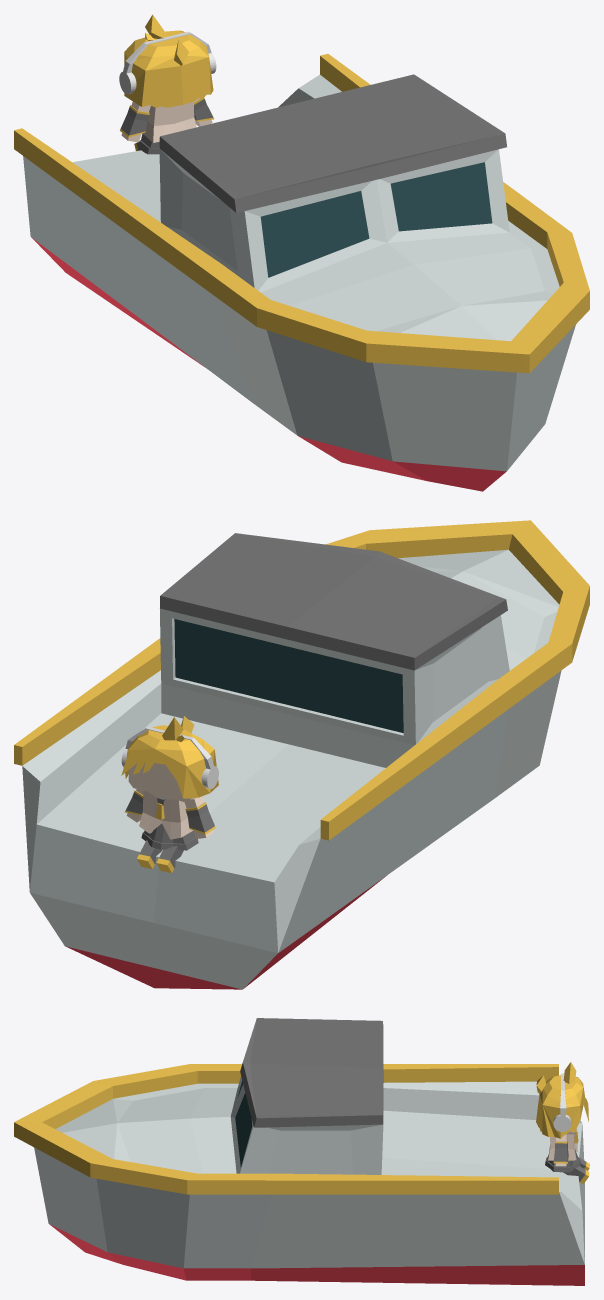
Rendered from littleshipRen.glb.
3 renders of one model, top to bottom at view 1: azimuth 30°, elevation 25°; view 2: azimuth 150°, elevation 25°; view 3: azimuth 270°, elevation 25°, orthographic. The views are drawn at different scales.
Visible parts, largest first — view 1: Cube, 球体, 立方体.004, Cylinder, 立方体.015; view 2: Cube, 球体, 立方体.004, 立方体.003, Cylinder, 立方体.015; view 3: Cube, 球体, Cylinder, 立方体.004.
Boxes of the visible parts, <box> form: Cube: <box>14,53,589,491</box>; 球体: <box>124,30,213,107</box>; 立方体.004: <box>143,101,196,142</box>; Cylinder: <box>119,31,216,94</box>; 立方体.015: <box>120,105,149,137</box>; Cube: <box>14,520,589,989</box>; 球体: <box>121,725,218,798</box>; 立方体.004: <box>139,791,192,839</box>; 立方体.003: <box>128,762,191,802</box>; Cylinder: <box>121,726,218,788</box>; 立方体.015: <box>185,802,215,834</box>; Cube: <box>14,1018,584,1285</box>; 球体: <box>536,1075,588,1138</box>; Cylinder: <box>553,1073,571,1131</box>; 立方体.004: <box>548,1134,577,1160</box>.
Size of the model in its own units: 3.04 by 2.51 by 6.35.
